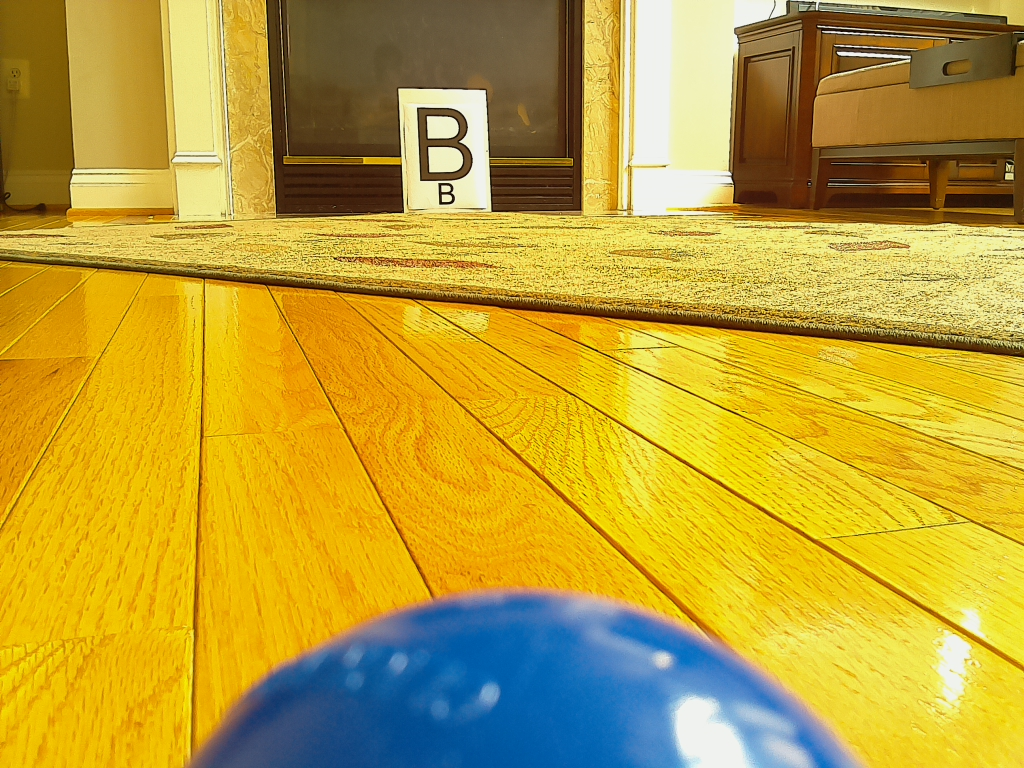letter: (417, 107, 473, 184)
